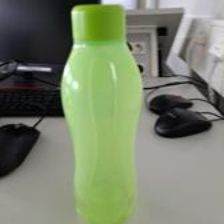bottle: (60, 1, 143, 224)
